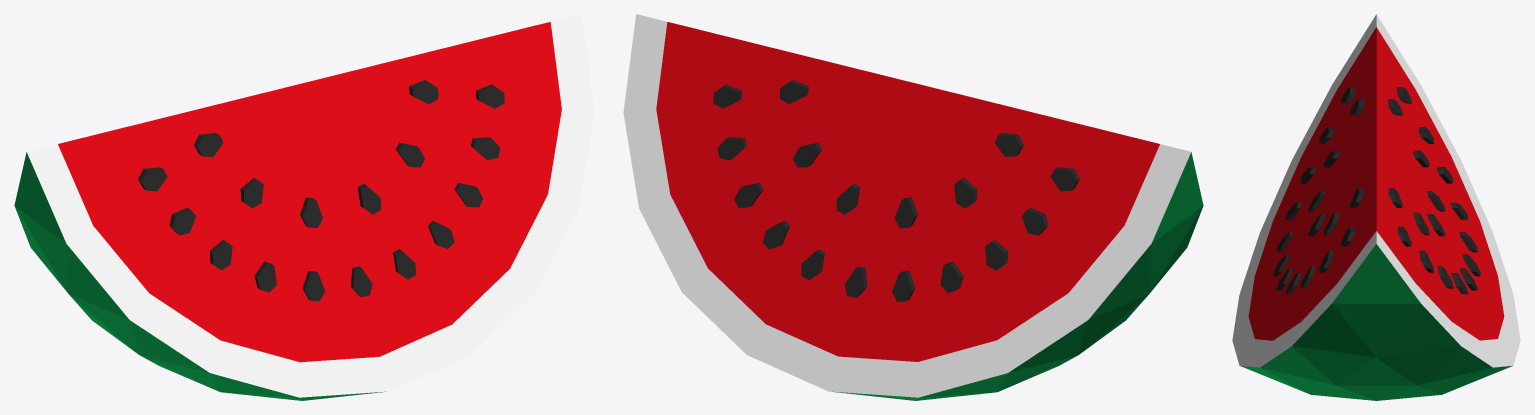
File: watermelon.fbx
3 views of the same model, side by side, from view 1: azimuth 30°, elevation 25°; view 2: azimuth 150°, elevation 25°; view 3: azimuth 270°, elevation 25° (orthographic). The views are drawn at different scales.
Parts seen in each view (by area): view 1: watermelon; view 2: watermelon; view 3: watermelon.
Boxes of the visible parts, x1,y1,x2,y2 form: watermelon: [14, 14, 594, 400]; watermelon: [623, 14, 1203, 400]; watermelon: [1232, 14, 1520, 400].
Size of the model in its own units: 457 by 230 by 240.
